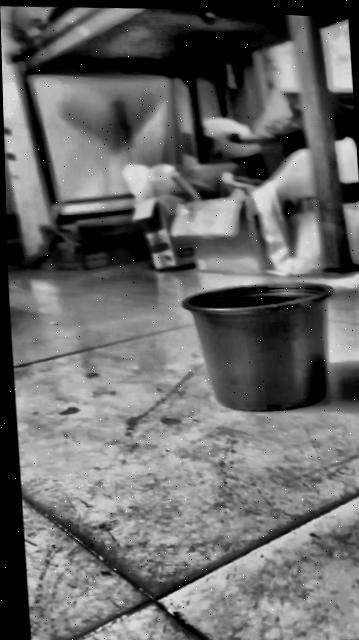pot: (181, 275, 340, 419)
